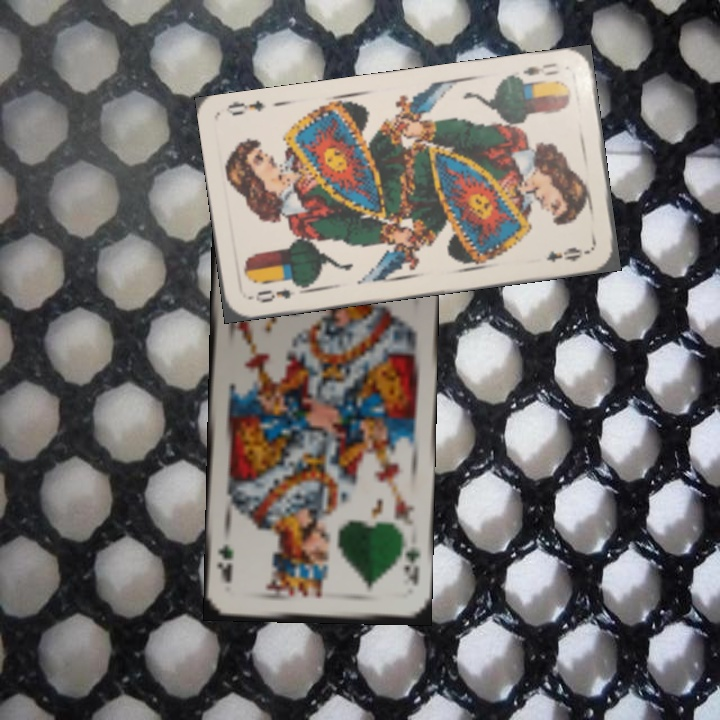EO: (246, 278, 304, 306), (518, 59, 561, 78)
GK: (399, 543, 423, 588)
